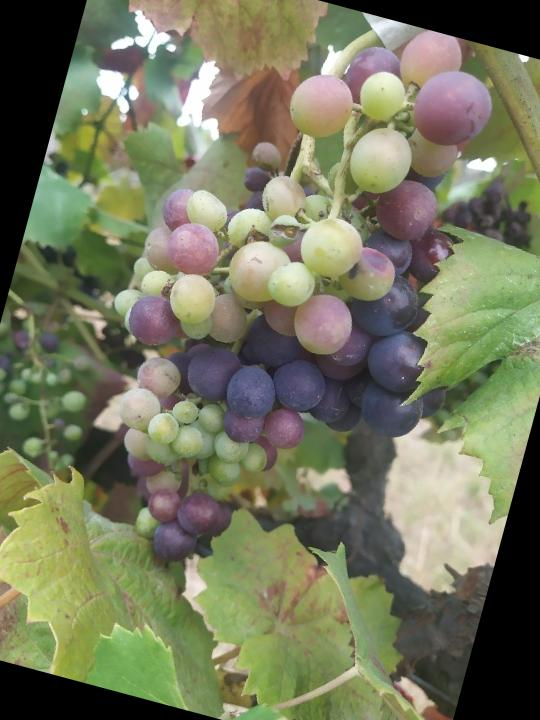grape: (57, 0, 533, 618)
